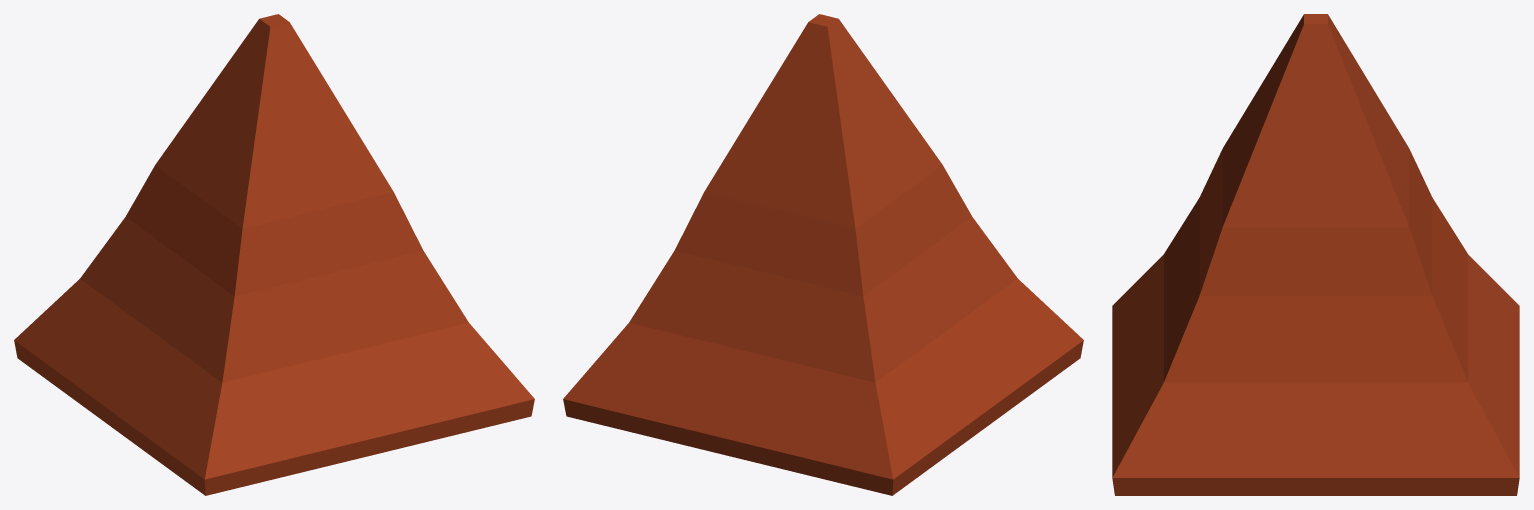
File: SM_roof_pyramid_04.fbx
3 views of the same model, side by side, from view 1: azimuth 30°, elevation 25°; view 2: azimuth 150°, elevation 25°; view 3: azimuth 270°, elevation 25° (orthographic). The views are drawn at different scales.
Visible parts, largest first — view 1: roof_pyramid_04; view 2: roof_pyramid_04; view 3: roof_pyramid_04.
Part boxes in pixels (x1=…): roof_pyramid_04: x1=14, y1=14, x2=534, y2=495; roof_pyramid_04: x1=563, y1=14, x2=1083, y2=495; roof_pyramid_04: x1=1112, y1=14, x2=1519, y2=495.
Size of the model in its own units: 304 by 323 by 304.
